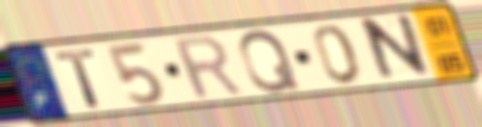0: (312, 23, 363, 86)
5: (102, 39, 170, 107)
N: (360, 11, 434, 86)
Q: (236, 27, 303, 95)
R: (169, 32, 247, 102)
T: (52, 46, 105, 110)
